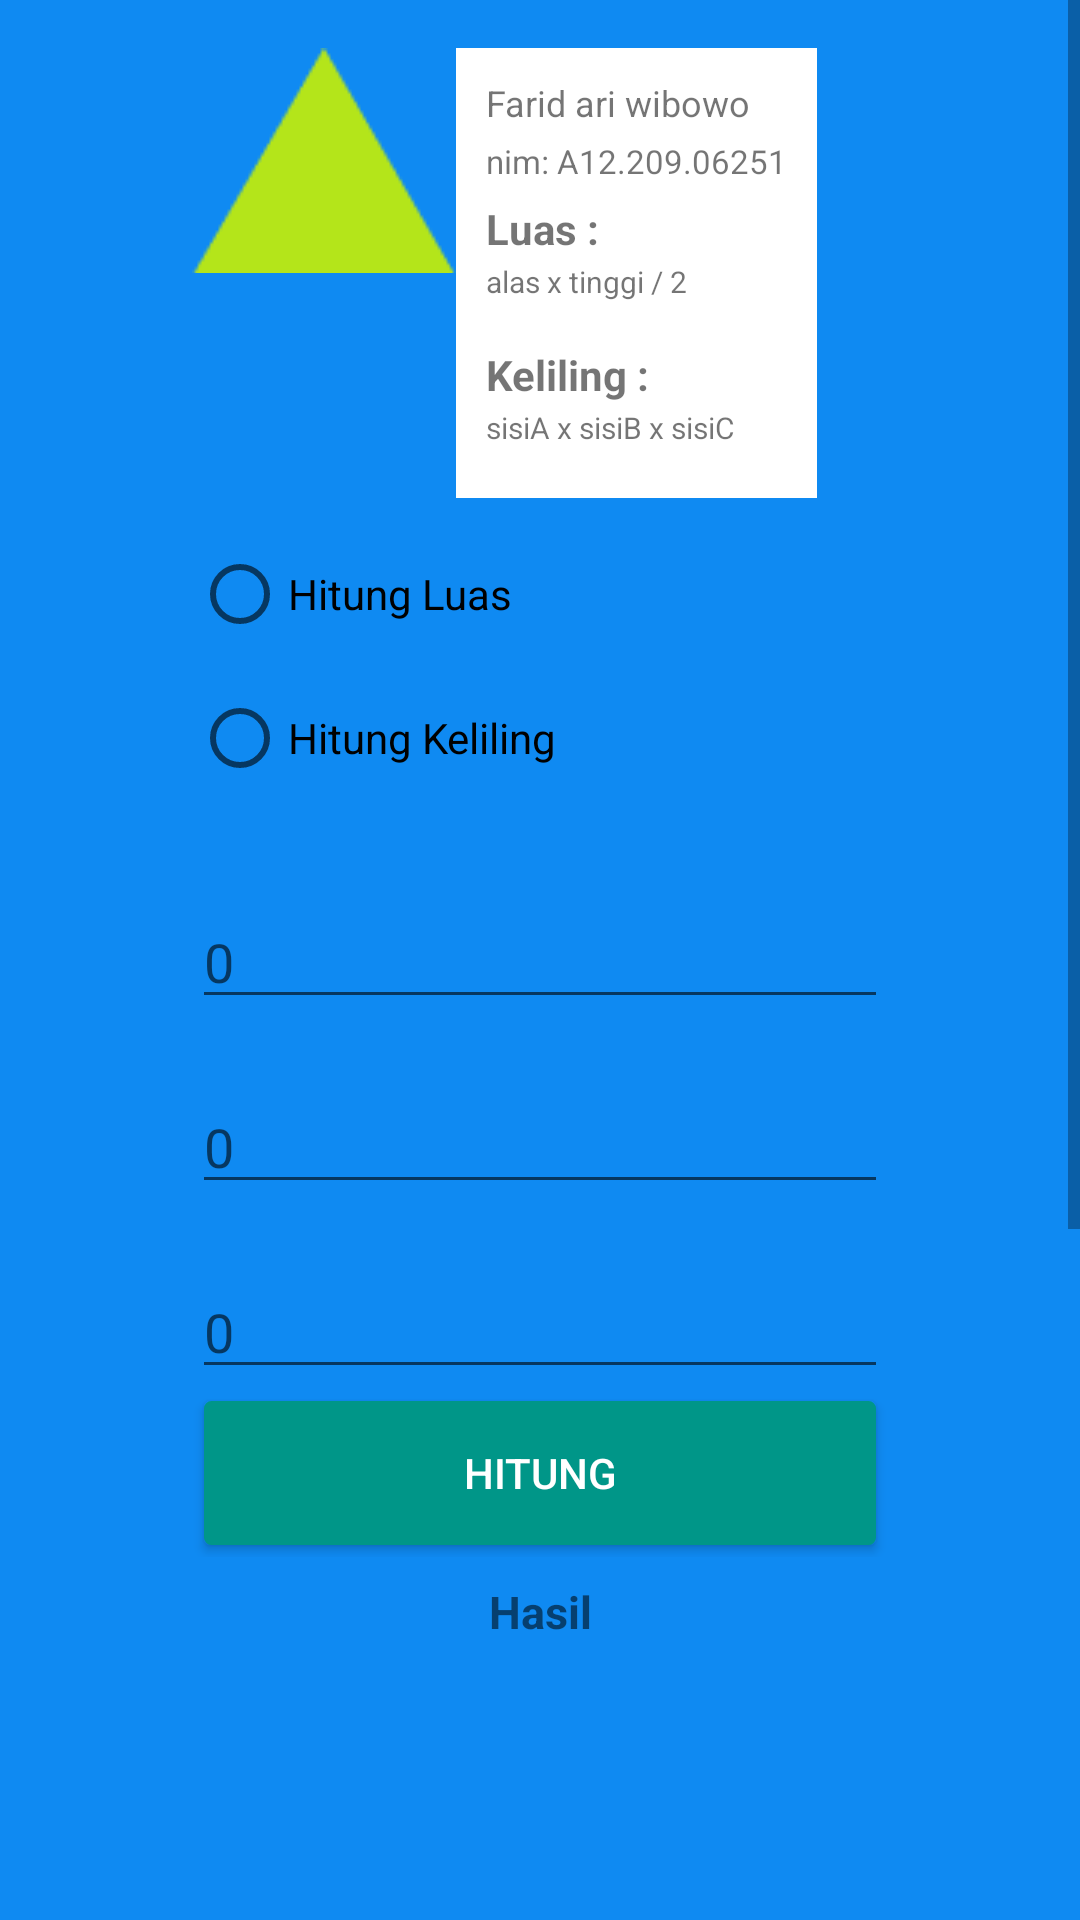

Icon click points for this 1080px x 1920px phone screenshot, format (x=x, y=y):
segitiga: (x=323, y=160)
